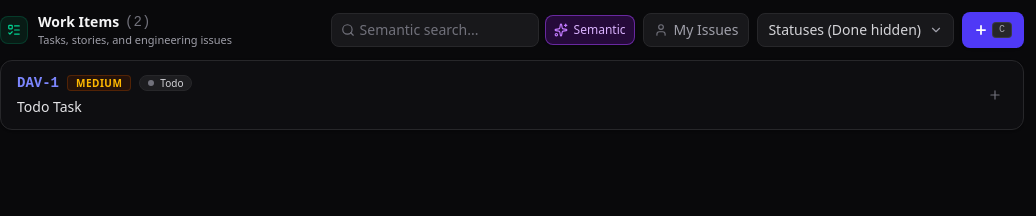
Test: WorkItemList - Sorting and Multi-Select Status Filter › supports header action buttons: All, Hide Done, and Clear
Click the button with test id "status-filter-dropdown-button" at (856, 30), box [757,13,954,47]
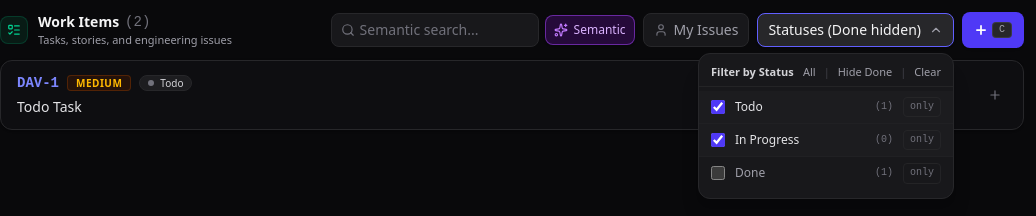
Click "All"
Click the button with test id "status-filter-select-all" at (809, 72), box [803,64,816,80]
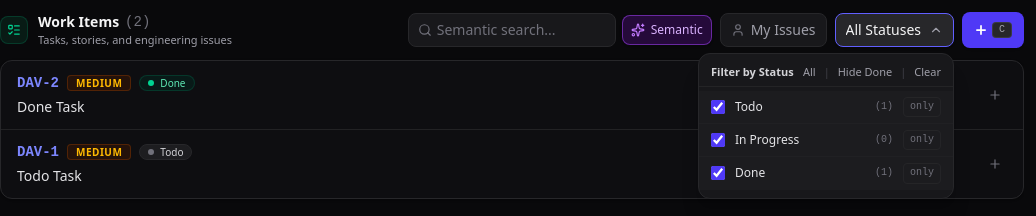
Expected: the element with test id "work-item-DAV-1" is shown, [1,130,1023,198]
Expected: the element with test id "work-item-DAV-2" is shown, [1,61,1023,130]
Expected: the button with test id "status-filter-dropdown-button" reads "All Statuses", [835,13,954,47]
Click "Hide Done"
Click the button with test id "status-filter-hide-done" at (865, 72), box [838,64,892,80]
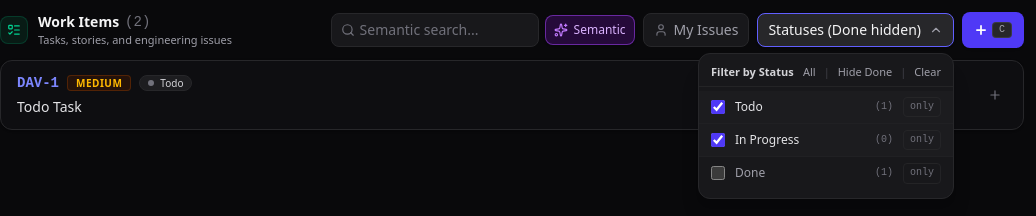
Expected: the element with test id "work-item-DAV-1" is shown, [1,61,1023,129]
Expected: the element with test id "work-item-DAV-2" is gone
Expected: the button with test id "status-filter-dropdown-button" reads "Statuses (Done hidden)", [757,13,954,47]
Click "Clear"
Click the button with test id "status-filter-clear" at (928, 72), box [914,64,941,80]
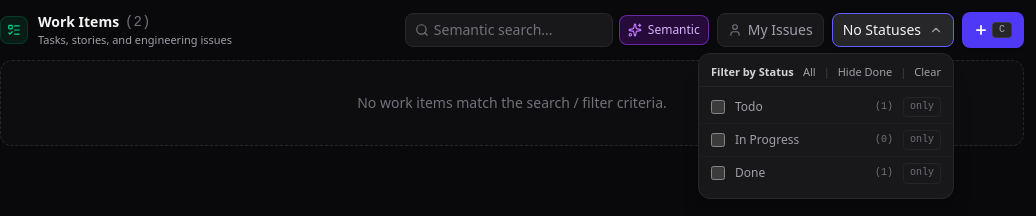
Expected: the element with test id "work-item-DAV-1" is gone
Expected: the button with test id "status-filter-dropdown-button" reads "No Statuses", [832,13,954,47]
Expected: the text "No work items match the search / filter criteria." is shown, [0,60,1024,146]
